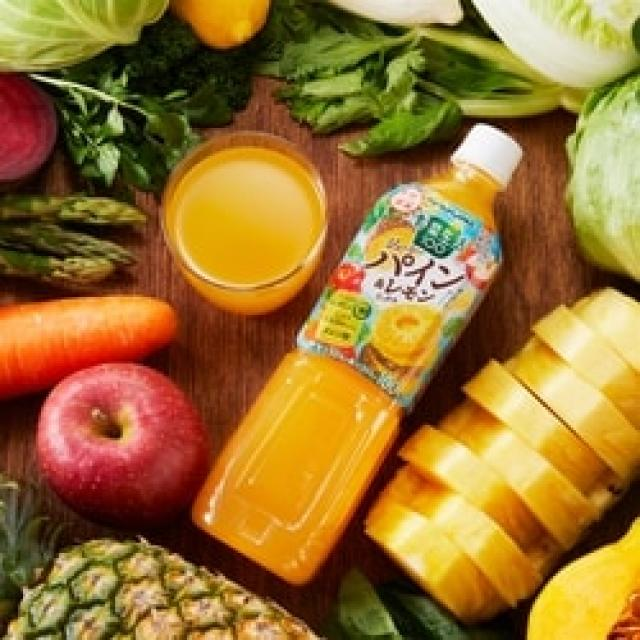juice: (189, 123, 525, 586)
